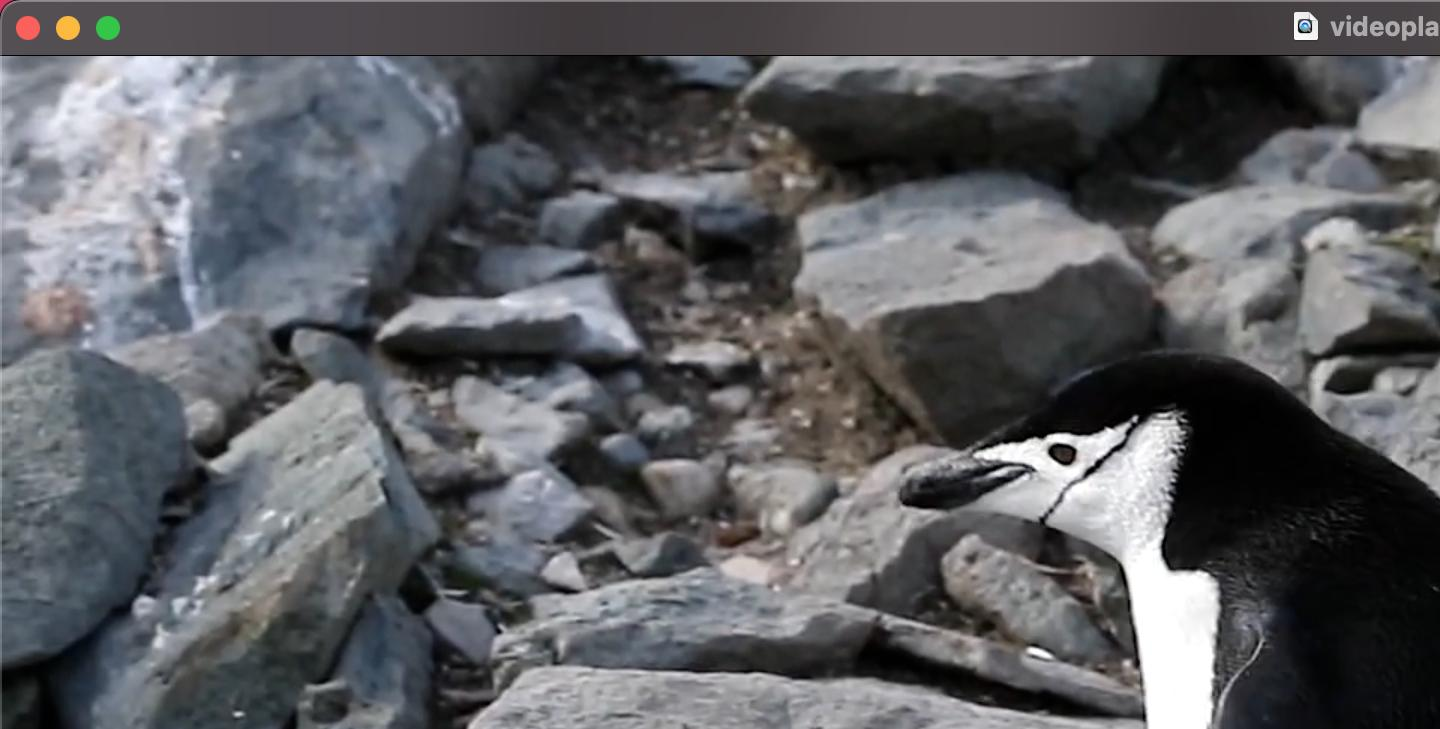Chinstrap Penguin: (894, 323, 1440, 729)
